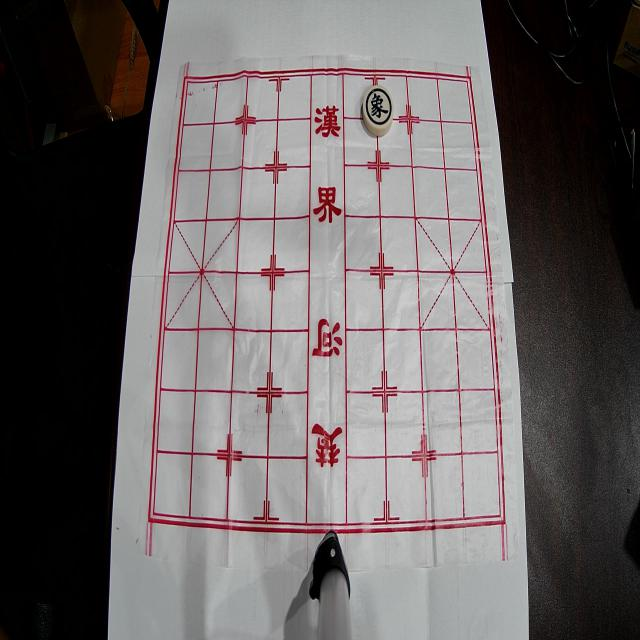black-elephant: (362, 86, 393, 136)
